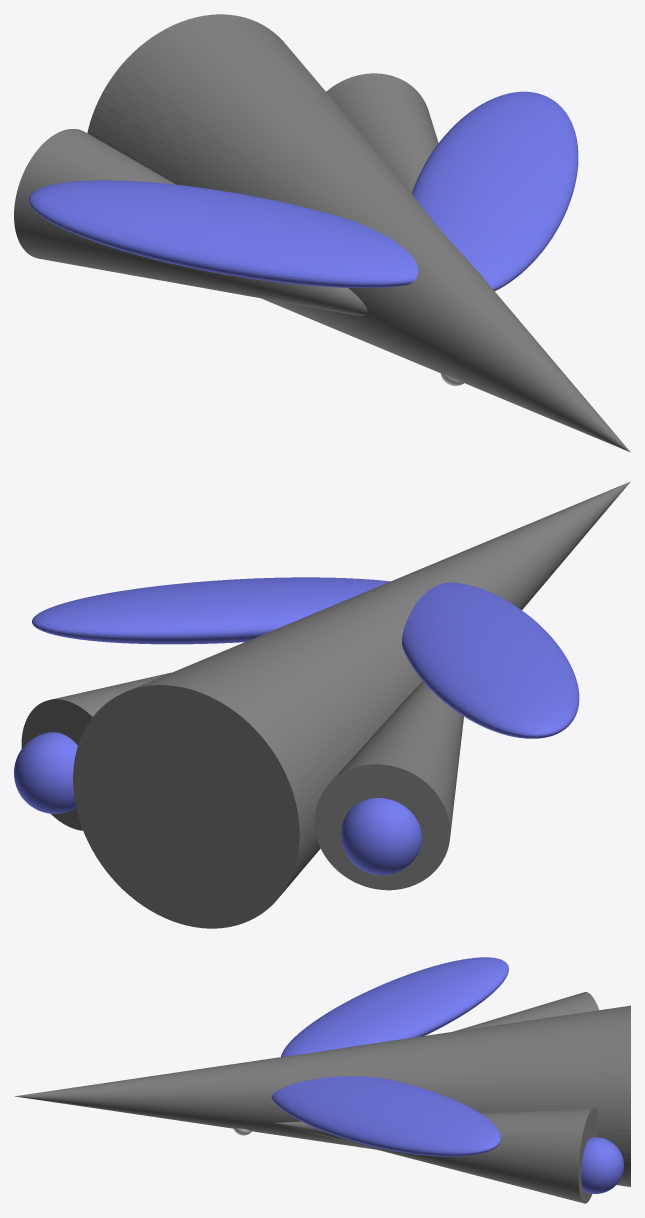
The model's file is fosha-gris.obj.
3 views of the same model, one above another, from view 1: azimuth 30°, elevation 25°; view 2: azimuth 150°, elevation 25°; view 3: azimuth 270°, elevation 25° (orthographic). The views are drawn at different scales.
Visible parts, largest first — view 1: Object.2, Object.4, Object.5, Object.3, Object.1; view 2: Object.2, Object.4, Object.3, Object.5, Object.7, Object.6, Object.1; view 3: Object.2, Object.5, Object.4, Object.1, Object.6, Object.3.
Part boxes in pixels (x1,y1,x2,y2): Object.2: (87, 14, 630, 452); Object.4: (29, 180, 418, 288); Object.5: (412, 91, 578, 290); Object.3: (14, 129, 367, 315); Object.1: (326, 73, 438, 192); Object.2: (73, 481, 630, 928); Object.4: (402, 582, 579, 738); Object.3: (314, 681, 463, 890); Object.5: (32, 577, 390, 644); Object.7: (341, 798, 421, 875); Object.6: (14, 732, 77, 813); Object.1: (21, 672, 171, 830); Object.2: (15, 1005, 630, 1186); Object.5: (271, 1076, 501, 1156); Object.4: (281, 957, 508, 1056); Object.1: (274, 1108, 597, 1203); Object.6: (581, 1137, 623, 1193); Object.3: (454, 992, 599, 1031).
Size of the model in its own units: 83.11 by 35.54 by 121.
